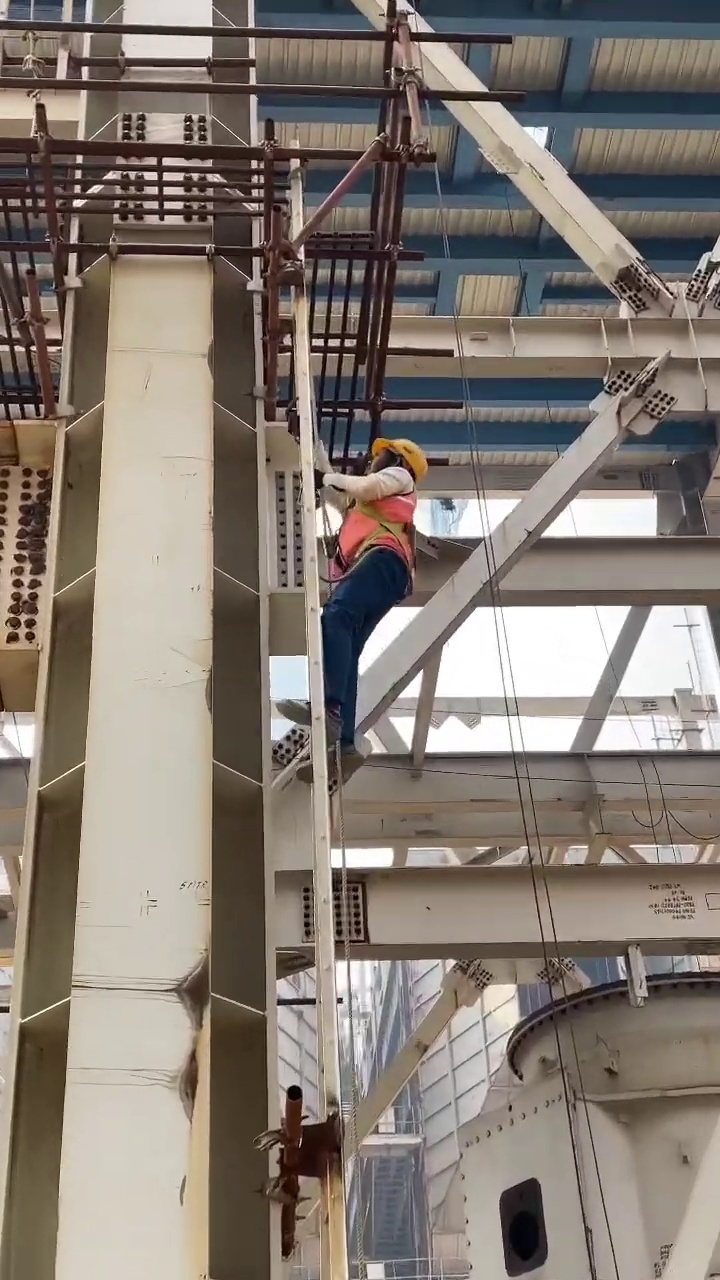Helmet: (371, 437, 428, 476)
Person: (276, 438, 429, 781)
Safety_Harness: (338, 493, 419, 567)
Safety_shoes: (275, 698, 342, 746), (296, 748, 366, 783)
